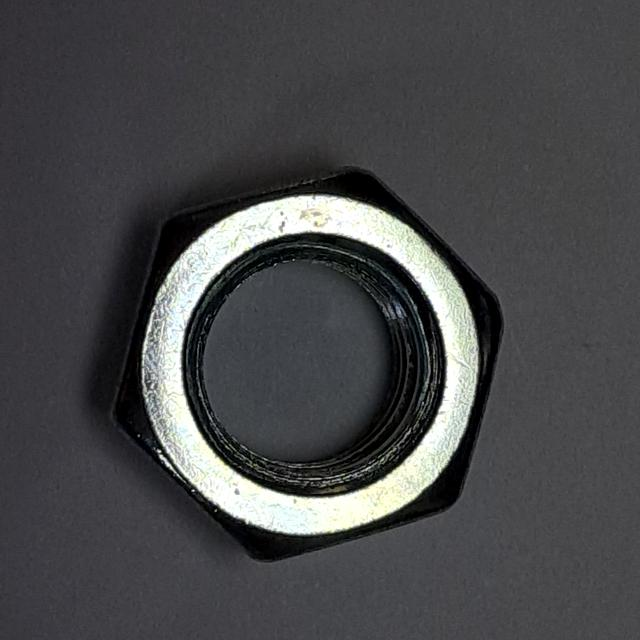Excellent: (94, 150, 518, 583)
